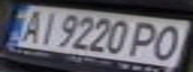0: (106, 17, 136, 56)
2: (90, 15, 115, 54), (72, 14, 96, 52)
9: (51, 11, 81, 50)
A: (12, 7, 48, 43)
I: (30, 9, 63, 45)
O: (145, 23, 190, 62)
P: (124, 19, 166, 58)
